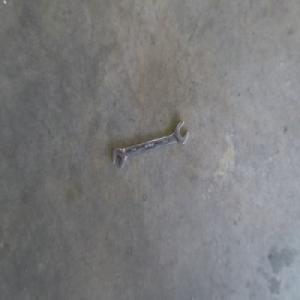Wrench: (110, 119, 191, 171)
